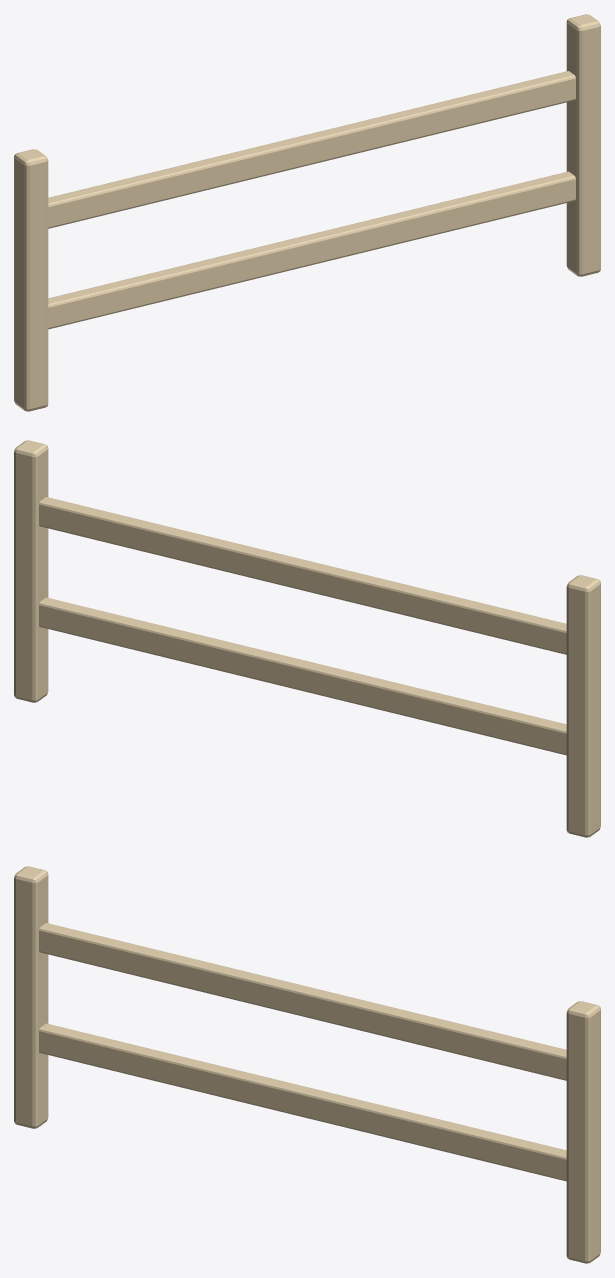
The model's file is Bike_Fence.fbx.
The picture shows the model from 3 angles, top to bottom: view 1: azimuth 30°, elevation 25°; view 2: azimuth 150°, elevation 25°; view 3: azimuth 330°, elevation 25°; orthographic projection.
Parts seen in each view (by area): view 1: Fence; view 2: Fence; view 3: Fence.
Boxes of the visible parts, x1,y1,x2,y2 form: Fence: (14, 14, 600, 411); Fence: (14, 440, 600, 837); Fence: (14, 866, 600, 1263).
Bounding box in the file's own units: 2.4 × 1 × 0.1.
